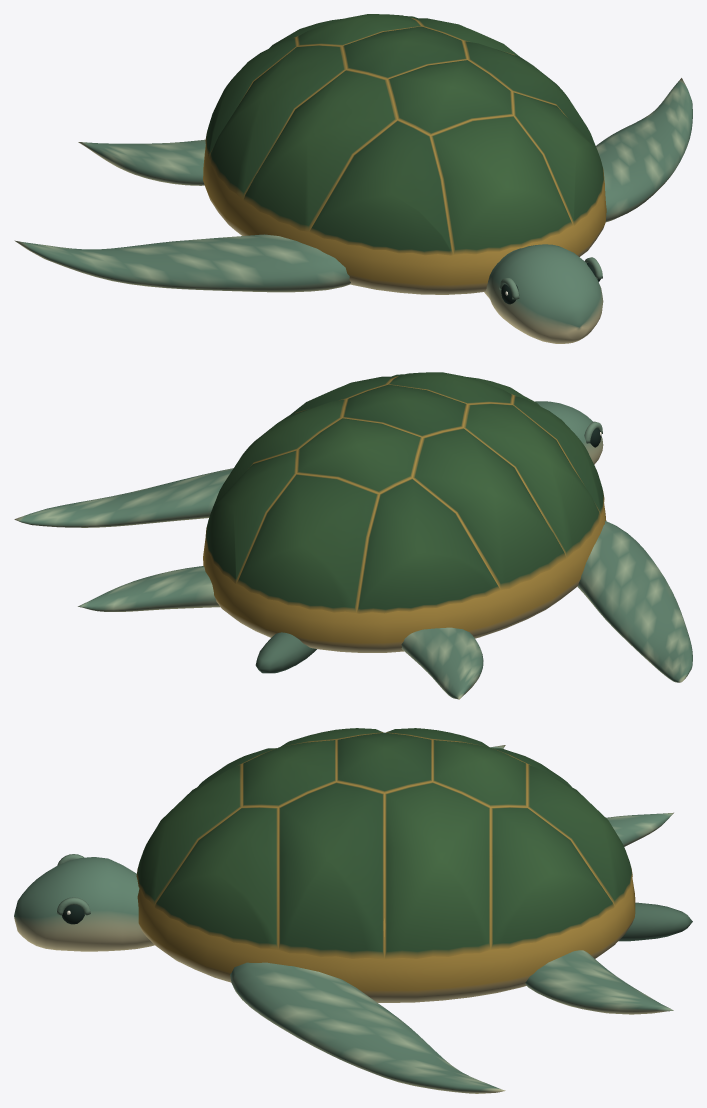
File: tortuga.glb
3 views of the same model, one above another, from view 1: azimuth 30°, elevation 25°; view 2: azimuth 150°, elevation 25°; view 3: azimuth 270°, elevation 25° (orthographic). The views are drawn at different scales.
Visible parts, largest first — view 1: Caparazón, plastrón y cola, Delantera 0, Cabeza y cuello, Delantera 1, Trasera 2; view 2: Caparazón, plastrón y cola, Delantera 0, Delantera 1, Trasera 3, Trasera 2, Cabeza y cuello; view 3: Caparazón, plastrón y cola, Delantera 1, Cabeza y cuello, Trasera 3, Trasera 2.
Boxes of the visible parts, <box> form: Caparazón, plastrón y cola: <box>203,14,606,294</box>; Delantera 0: <box>14,234,350,292</box>; Cabeza y cuello: <box>484,244,603,343</box>; Delantera 1: <box>596,78,692,222</box>; Trasera 2: <box>78,139,205,185</box>; Caparazón, plastrón y cola: <box>203,372,606,673</box>; Delantera 0: <box>577,521,692,682</box>; Delantera 1: <box>14,468,233,527</box>; Trasera 3: <box>78,566,220,611</box>; Trasera 2: <box>401,627,483,699</box>; Cabeza y cuello: <box>535,401,603,464</box>; Caparazón, plastrón y cola: <box>136,728,692,1002</box>; Delantera 1: <box>230,962,505,1093</box>; Cabeza y cuello: <box>14,854,154,951</box>; Trasera 3: <box>525,950,673,1014</box>; Trasera 2: <box>606,812,673,846</box>.
Bounding box in the file's own units: 4.86 × 1.34 × 4.03.
